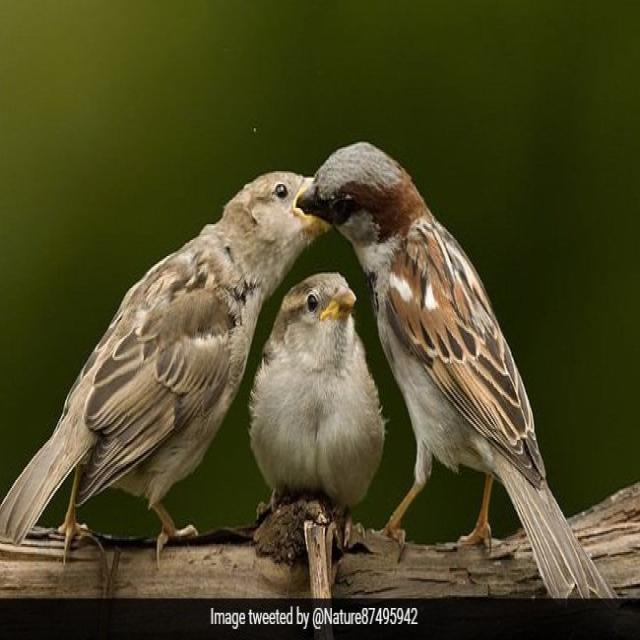Sparrow: (291, 133, 595, 597), (2, 150, 322, 544), (246, 262, 391, 554)
